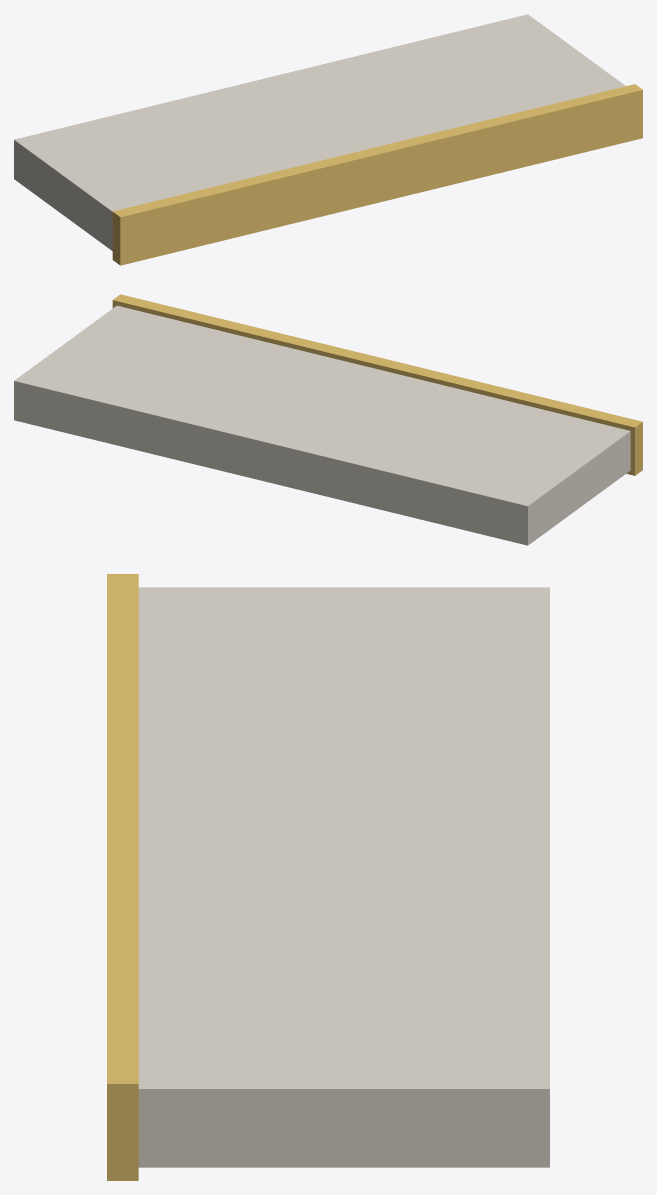
Rendered from modular_wall.glb.
3 renders of one model, top to bottom at view 1: azimuth 30°, elevation 25°; view 2: azimuth 150°, elevation 25°; view 3: azimuth 270°, elevation 25°, orthographic. The views are drawn at different scales.
Parts seen in each view (by area): view 1: wall, top_trim; view 2: wall, top_trim; view 3: wall, top_trim.
Part boxes in pixels (x1,y1,x2,y2): wall: (14,14,625,250); top_trim: (112,84,642,265); wall: (14,305,630,545); top_trim: (112,294,642,475); wall: (138,587,549,1167); top_trim: (107,574,138,1180).
Bounding box in the file's own units: 3.05 × 0.27 × 1.12.
